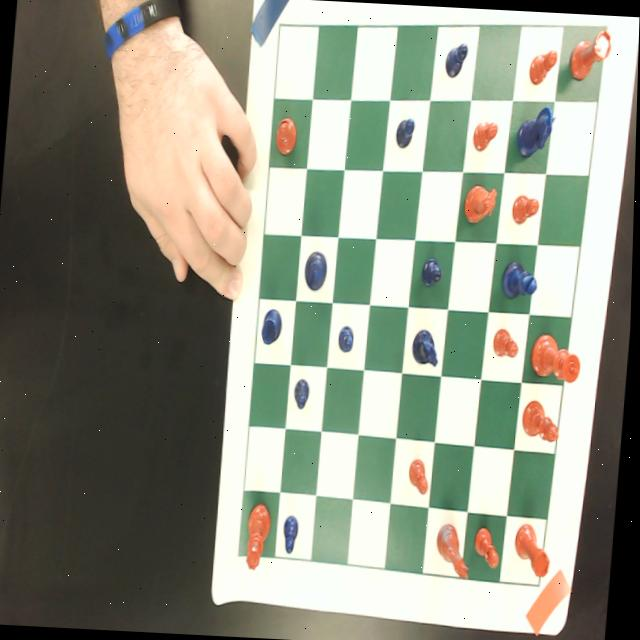B: (502, 258, 540, 300)
K: (304, 250, 329, 292)
N: (515, 102, 557, 159), (411, 327, 442, 366)
P: (444, 40, 469, 80), (420, 255, 445, 287), (393, 116, 416, 150), (284, 513, 302, 554), (293, 375, 312, 410), (338, 324, 355, 353)
R: (262, 306, 285, 345)
b: (523, 396, 564, 443), (273, 114, 300, 156)
k: (531, 331, 585, 383)
n: (436, 518, 476, 579), (464, 177, 499, 225)
p: (474, 526, 504, 570), (527, 46, 558, 86), (471, 118, 500, 153), (511, 192, 541, 225), (492, 326, 521, 359), (408, 458, 433, 495)
q: (246, 502, 275, 570)
r: (568, 24, 612, 84), (515, 520, 555, 578)
